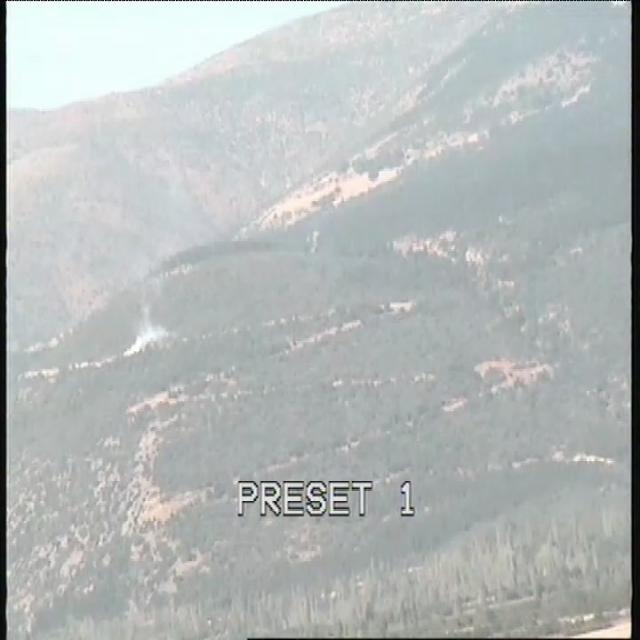smoke: (122, 322, 174, 358)
